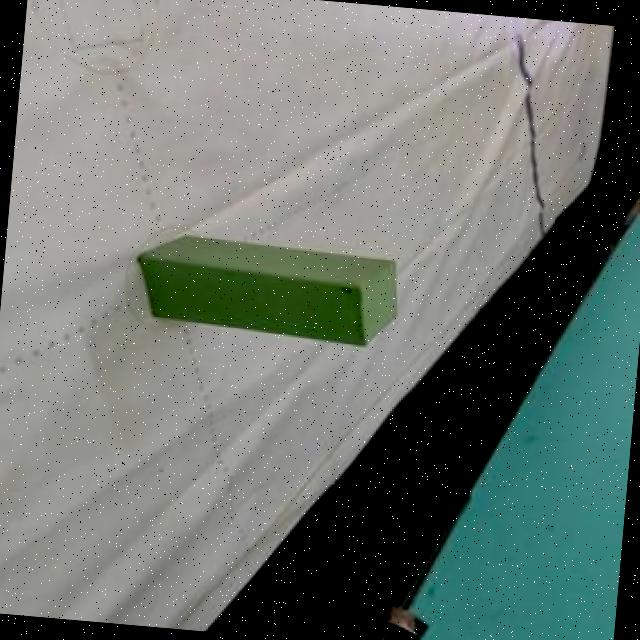greenbox: (126, 225, 406, 352)
